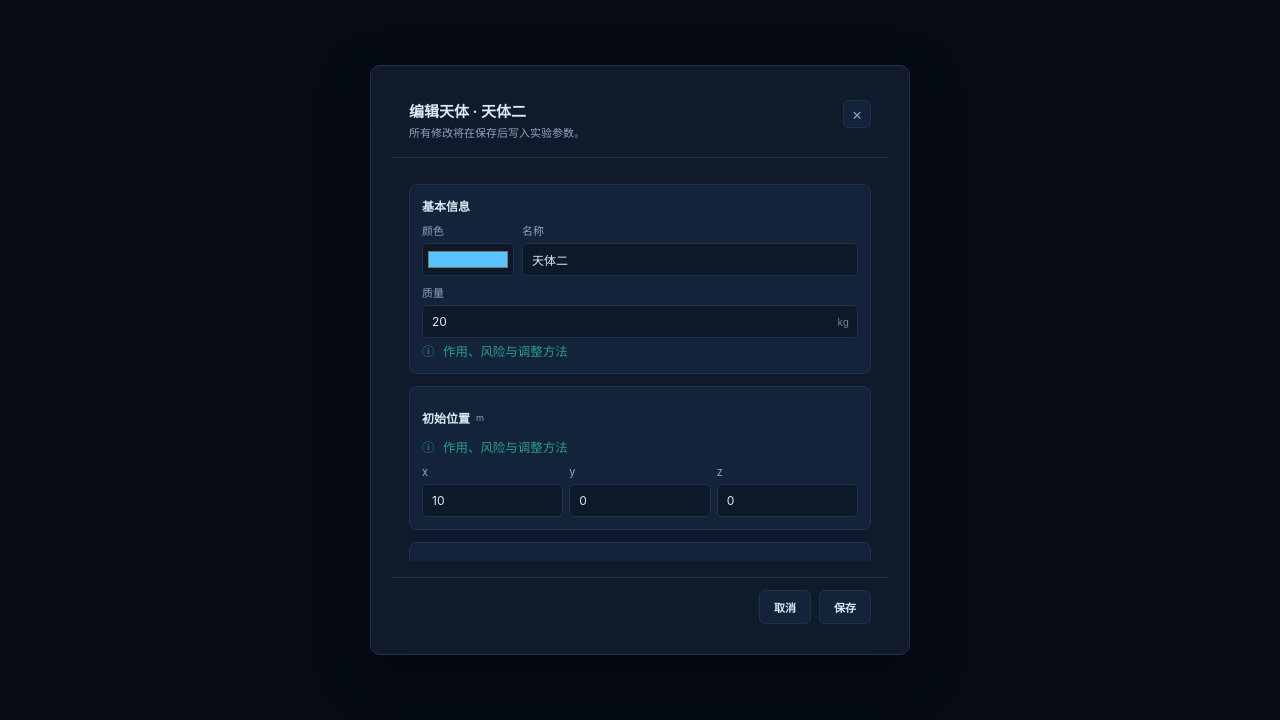
Scenario: BodyEditorDialog › 即时显示质量、坐标和重合位置错误并阻止保存
The image size is (1280, 720).
Replace the text in the field labelled "质量" with "0" at (640, 322), box top-left (422, 305), bottom-right (858, 338)
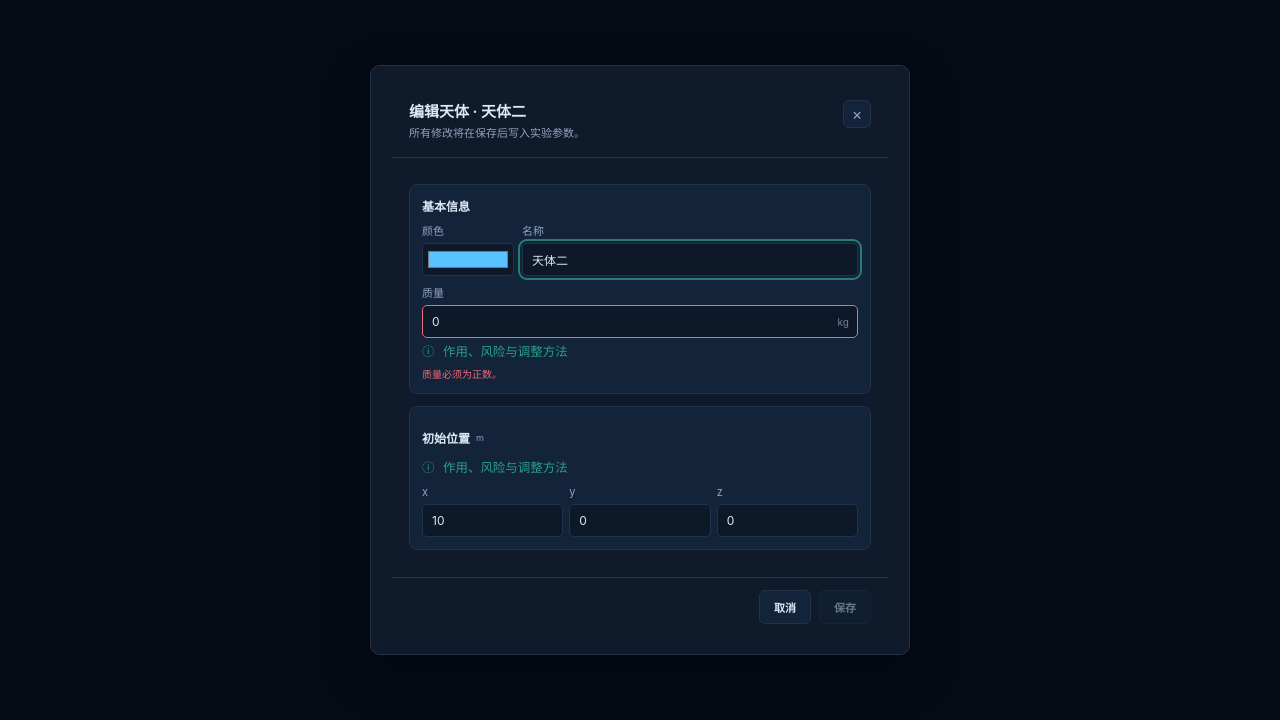
Now the dialog with class "body-editor-dialog" shows "质量必须为正数", box top-left (422, 368), bottom-right (502, 380)
Now the button "保存" is disabled, box top-left (819, 590), bottom-right (871, 624)
Replace the text in the field labelled "质量" with "20" at (640, 322), box top-left (422, 305), bottom-right (858, 338)
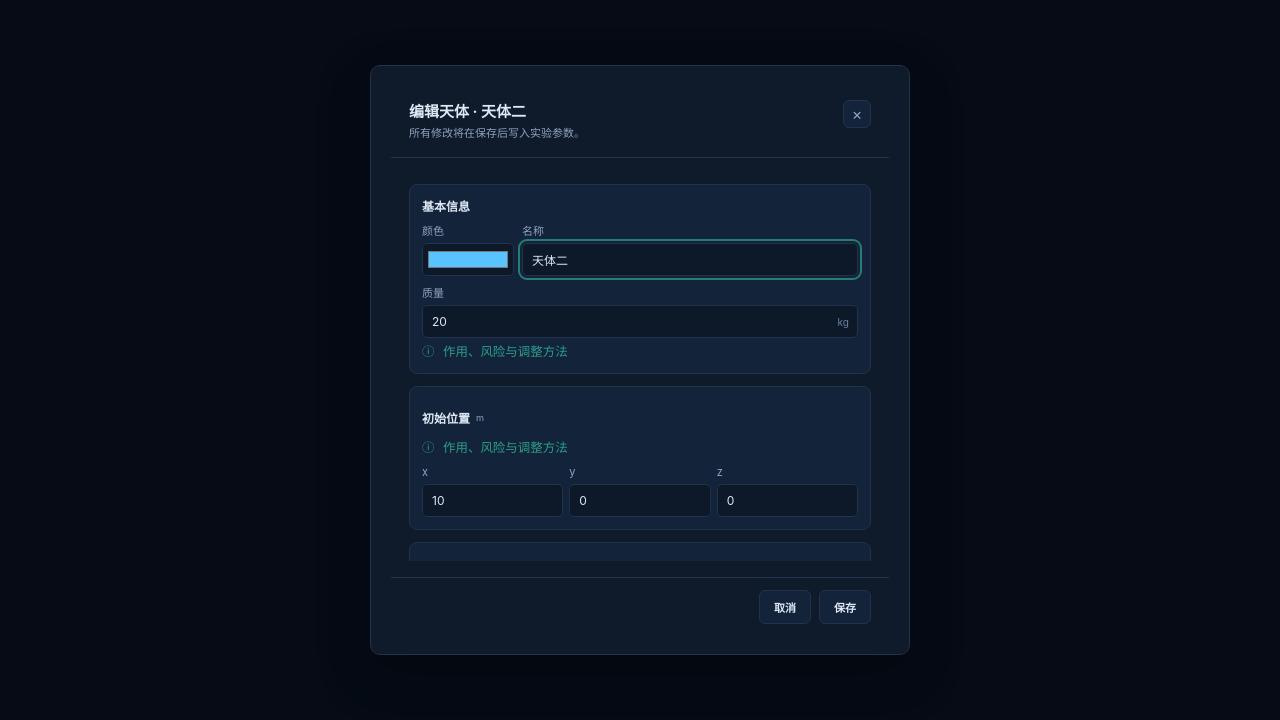
Replace the text in the field labelled "x" with "not-a-number" at (493, 501), box top-left (422, 484), bottom-right (563, 518)
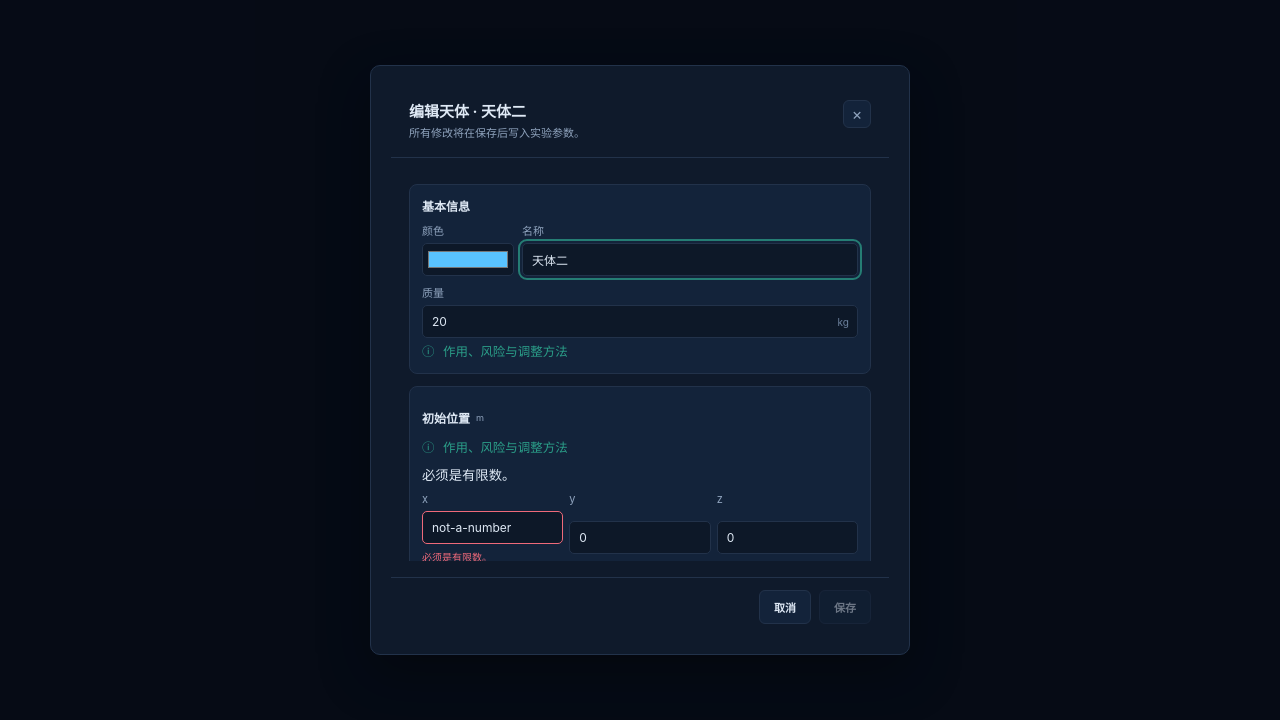
Now the dialog with class "body-editor-dialog" shows "必须是有限数", box top-left (422, 468), bottom-right (515, 484)
Replace the text in the field labelled "x" with "0" at (493, 528), box top-left (422, 512), bottom-right (563, 544)
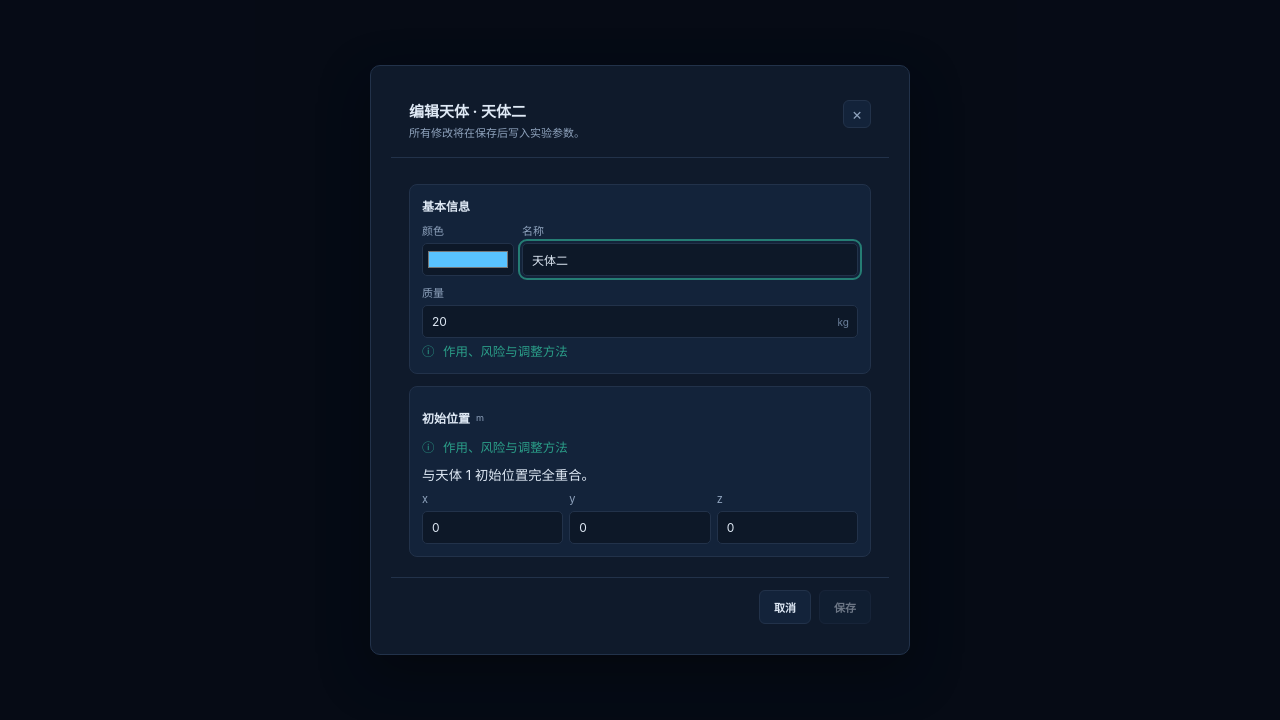
Now the button "保存" is disabled, box top-left (819, 590), bottom-right (871, 624)
Now the dialog with class "body-editor-dialog" shows "初始位置完全重合", box top-left (422, 468), bottom-right (595, 484)
